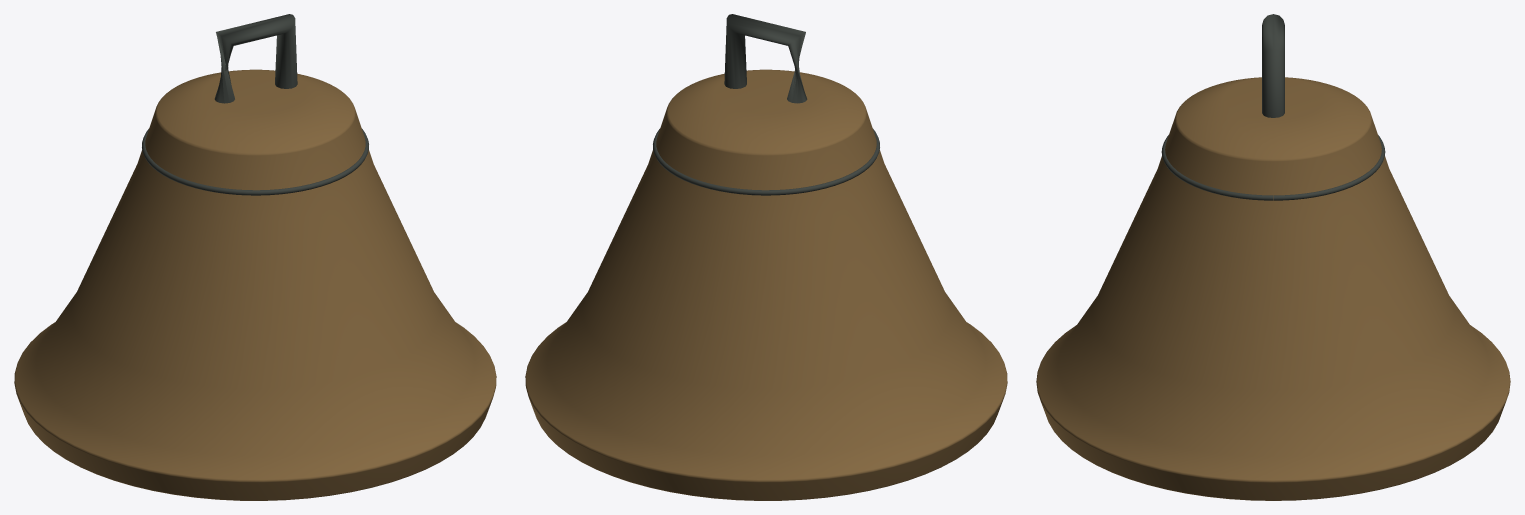
Rendered from C09_bronze_bell.gltf.
3 views of the same model, side by side, from view 1: azimuth 30°, elevation 25°; view 2: azimuth 150°, elevation 25°; view 3: azimuth 270°, elevation 25° (orthographic).
Parts seen in each view (by area): view 1: Bronze bell, Bell hanging staple, Bell chased ring.002; view 2: Bronze bell, Bell hanging staple, Bell chased ring.002; view 3: Bronze bell, Bell hanging staple, Bell chased ring.002.
Boxes of the visible parts, x1,y1,x2,y2 form: Bronze bell: (14, 69, 496, 500); Bell hanging staple: (214, 14, 297, 103); Bell chased ring.002: (142, 129, 368, 195); Bronze bell: (525, 69, 1007, 500); Bell hanging staple: (724, 14, 807, 103); Bell chased ring.002: (653, 129, 879, 195); Bronze bell: (1036, 77, 1510, 500); Bell hanging staple: (1262, 14, 1284, 117); Bell chased ring.002: (1161, 135, 1385, 200).
Bounding box in the file's own units: 2.18 × 1.99 × 2.18.
